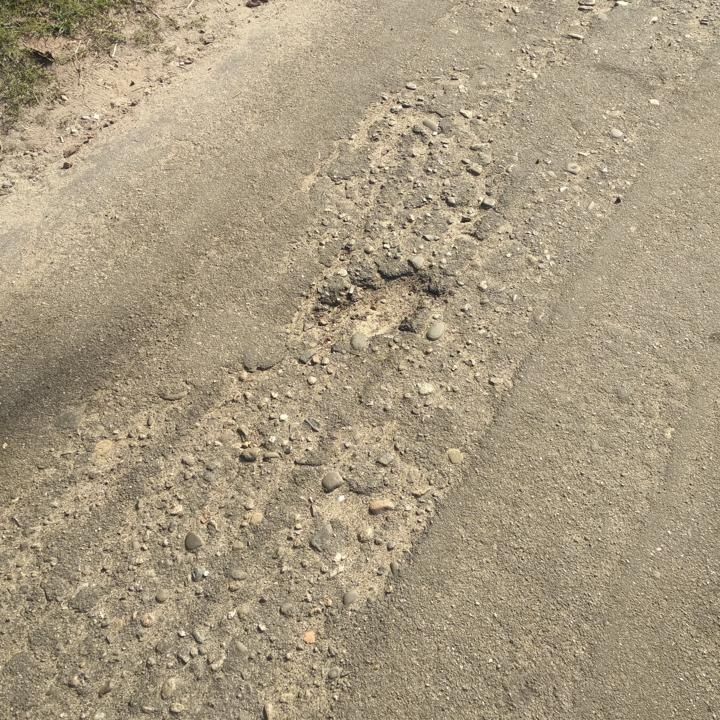pothole: (318, 263, 443, 340)
